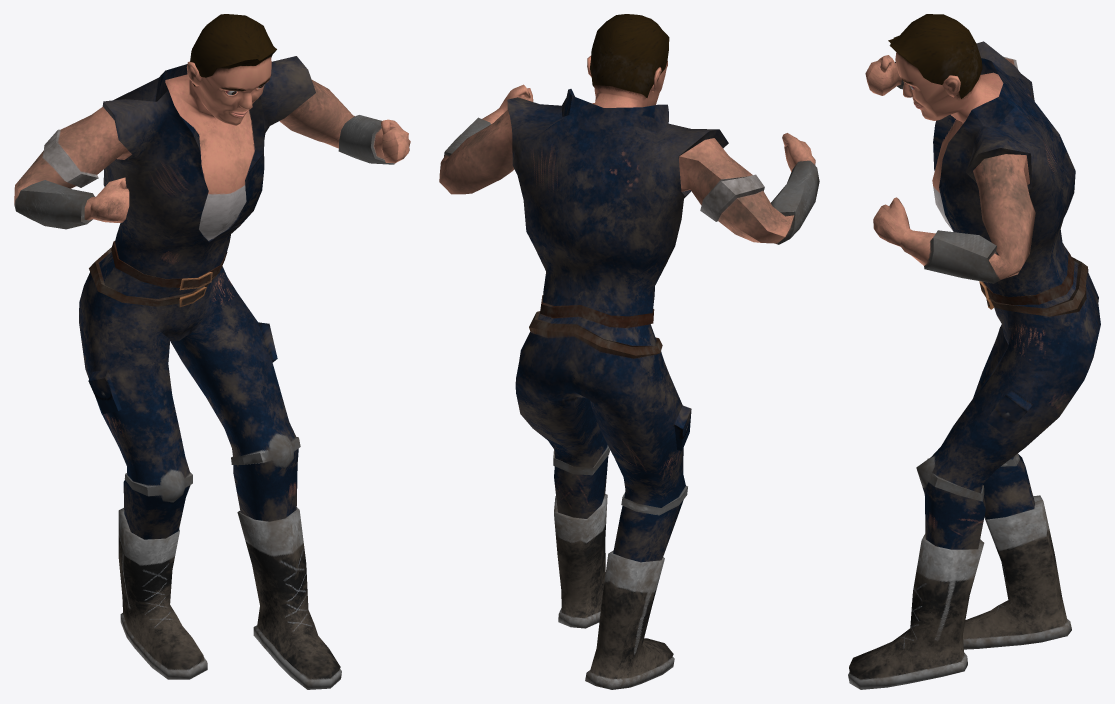
The model's file is Anim_ataque_d2_jugador.0040.obj.
3 views of the same model, side by side, from view 1: azimuth 30°, elevation 25°; view 2: azimuth 150°, elevation 25°; view 3: azimuth 270°, elevation 25° (orthographic). The views are drawn at different scales.
Parts seen in each view (by area): view 1: polySurface1; view 2: polySurface1; view 3: polySurface1.
Part boxes in pixels (x1,y1,x2,y2): polySurface1: [14, 14, 410, 689]; polySurface1: [439, 14, 819, 689]; polySurface1: [848, 14, 1100, 689].
Bounding box in the file's own units: 5.28 × 9.13 × 3.25.
